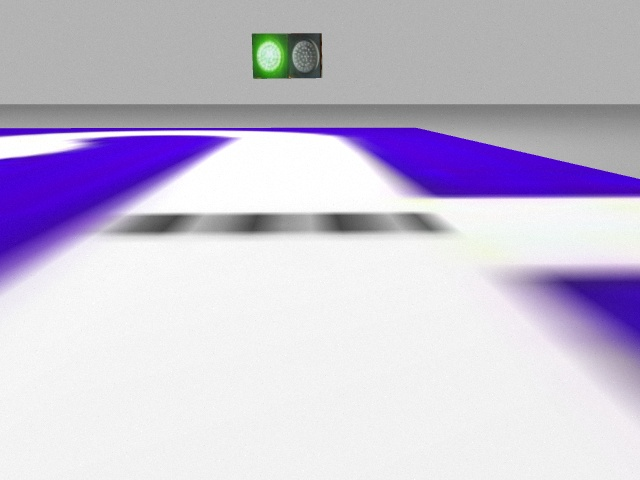green: (250, 33, 292, 81)
